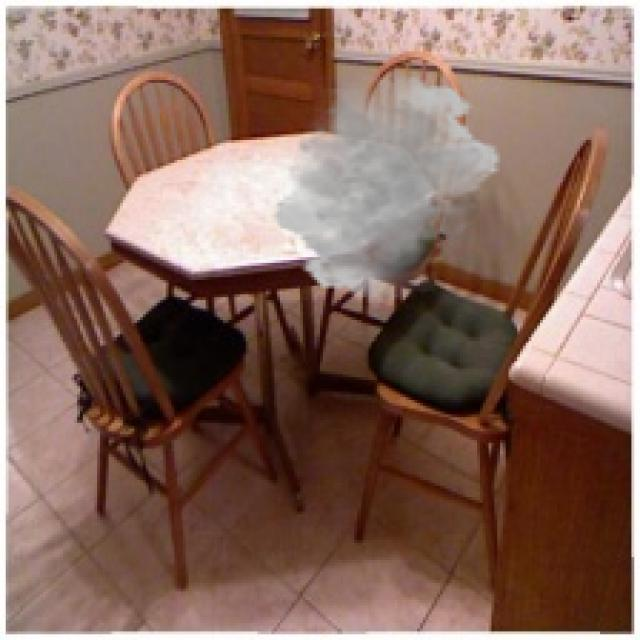smoke: (271, 71, 503, 303)
